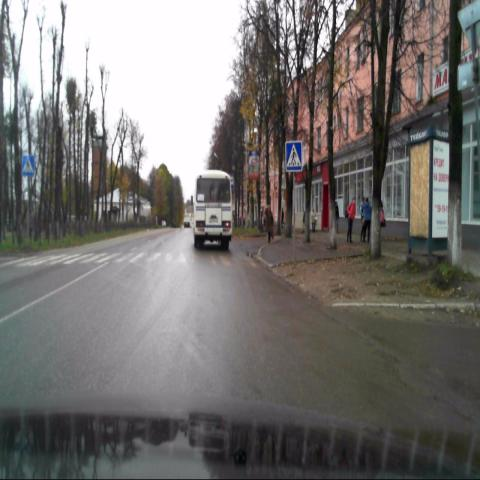5_19_1: (285, 140, 301, 172), (22, 155, 34, 176)
